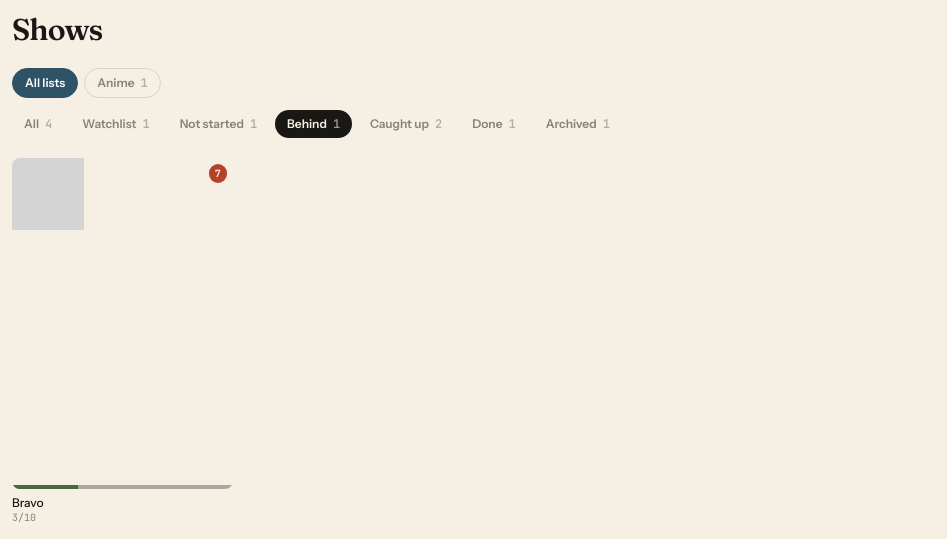
ShowsLibrary › Watchlist is a separate lane, excluded from All/Not started
Expected: the button "Watchlist1" is shown, [70,110,162,138]
Expected: the text "Foxtrot" is not shown
Click the button "All4" at (38, 124), box [12,110,64,138]
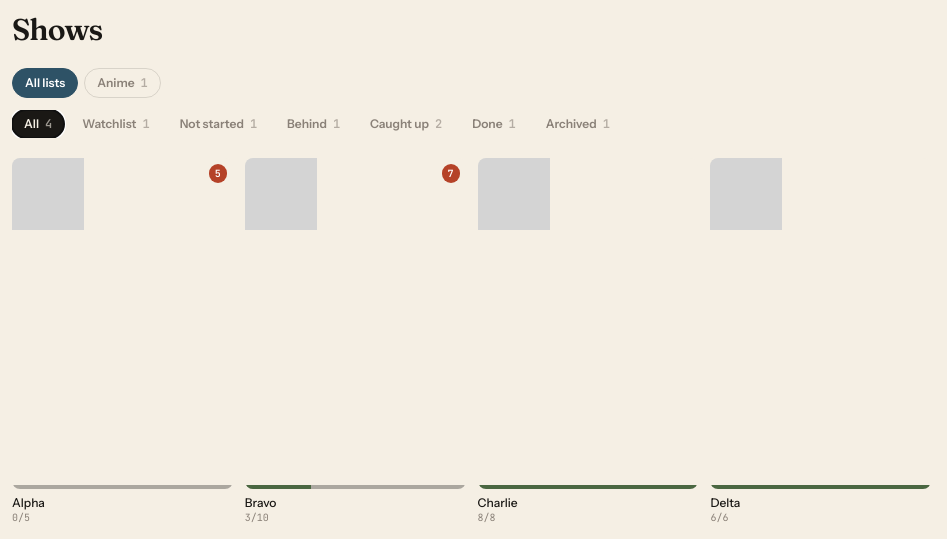
Expected: the text "Foxtrot" is not shown
Click the button "Watchlist1" at (116, 124), box [70,110,162,138]
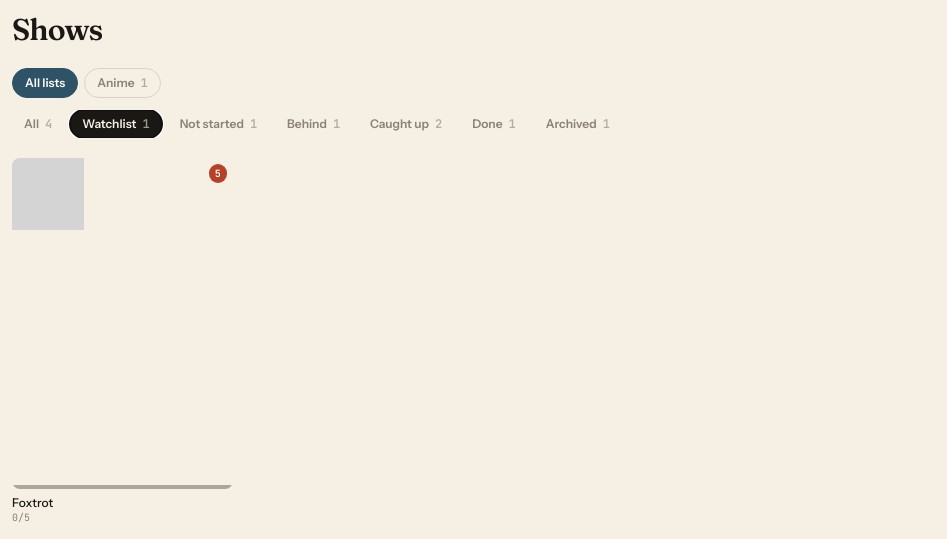
Now the text "Foxtrot" is shown, box [12,495,53,510]
Now the link "Alpha" is gone
